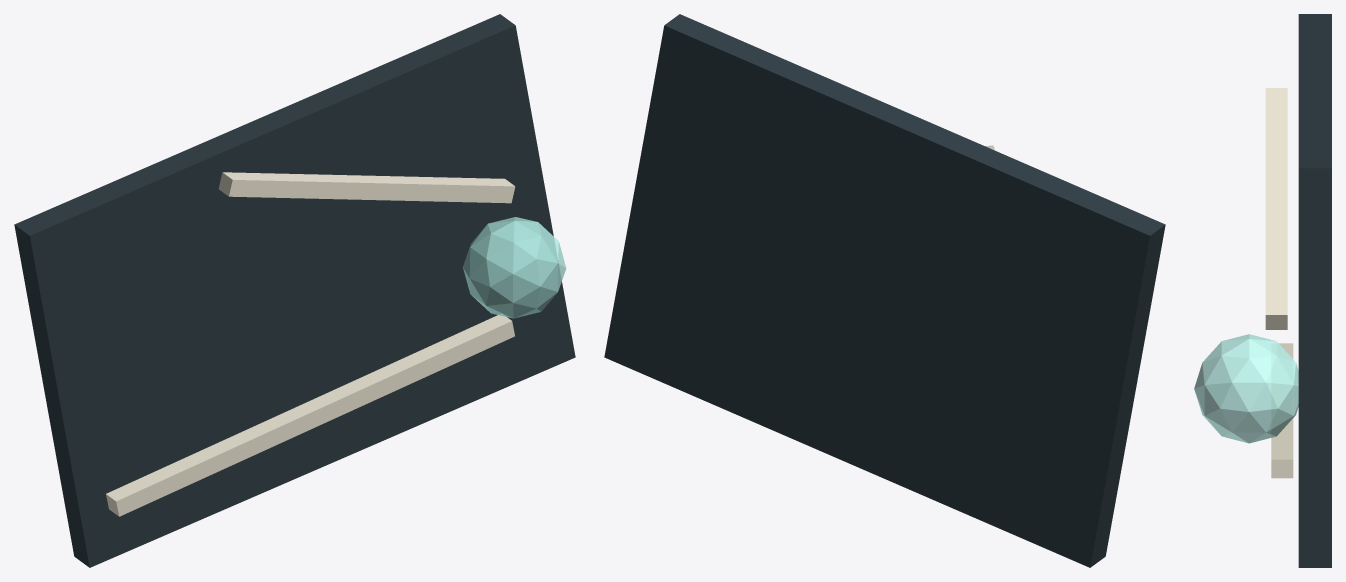
The model's file is 02_world_prop_polish.glb.
3 views of the same model, side by side, from view 1: azimuth 30°, elevation 25°; view 2: azimuth 150°, elevation 25°; view 3: azimuth 270°, elevation 25° (orthographic). The views are drawn at different scales.
Parts seen in each view (by area): view 1: object_overlay_plate, edge_wear_a, glow_socket, edge_wear_b; view 2: object_overlay_plate; view 3: object_overlay_plate, glow_socket, edge_wear_b, edge_wear_a.
Part boxes in pixels (x1,y1,x2,y2): object_overlay_plate: [14, 14, 575, 567]; edge_wear_a: [106, 314, 514, 516]; glow_socket: [463, 217, 566, 318]; edge_wear_b: [218, 172, 515, 203]; object_overlay_plate: [604, 14, 1165, 567]; object_overlay_plate: [1298, 14, 1331, 567]; glow_socket: [1194, 334, 1298, 443]; edge_wear_b: [1265, 88, 1287, 329]; edge_wear_a: [1271, 343, 1293, 478].
Bounding box in the file's own units: 1.22 × 0.9339 × 0.25.
